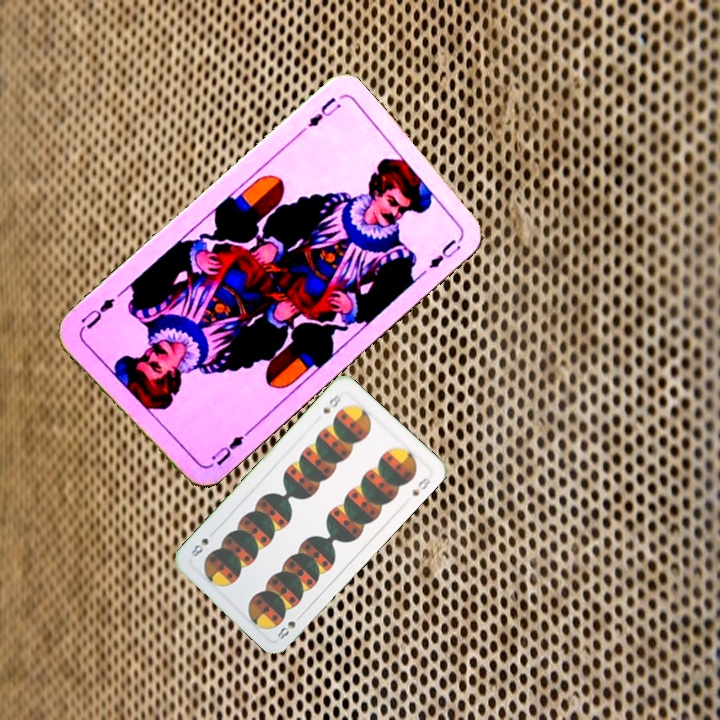EU: (294, 93, 344, 138), (207, 427, 252, 469)
S8: (273, 617, 298, 642), (319, 390, 343, 416)
